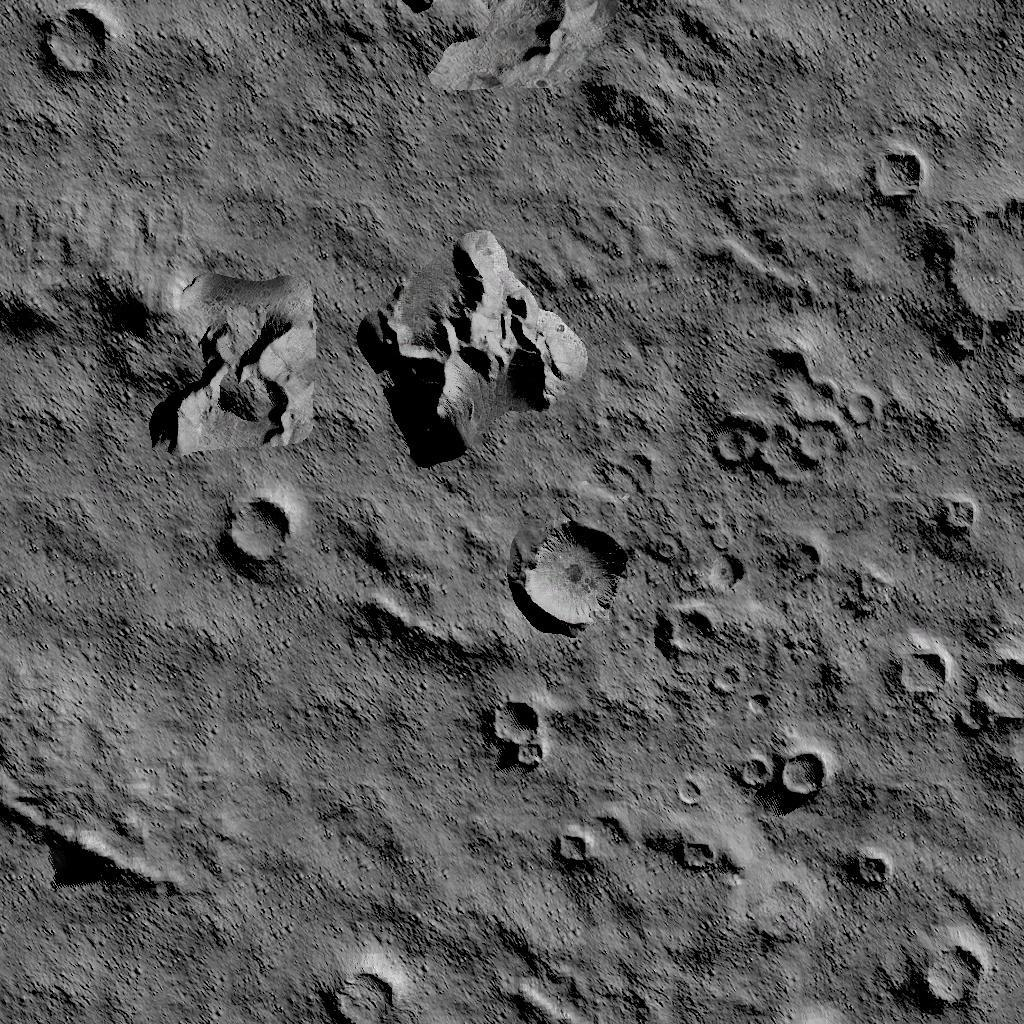Boulders: (0, 218, 324, 462), (361, 228, 593, 478), (341, 0, 633, 122), (330, 511, 494, 669), (0, 768, 198, 898)
Crater: (704, 348, 884, 488), (940, 202, 1024, 434), (508, 503, 633, 637), (888, 627, 1024, 740), (654, 546, 746, 664), (218, 484, 310, 590), (34, 0, 128, 100), (904, 934, 998, 1024), (728, 734, 828, 812), (321, 949, 419, 1024), (482, 690, 562, 775), (864, 142, 929, 208), (843, 835, 902, 906), (666, 823, 732, 884), (932, 489, 988, 543), (544, 822, 600, 874)
Plan surface: (226, 688, 472, 912), (2, 484, 204, 726), (760, 0, 1024, 122), (146, 0, 308, 198), (0, 927, 300, 1024)
